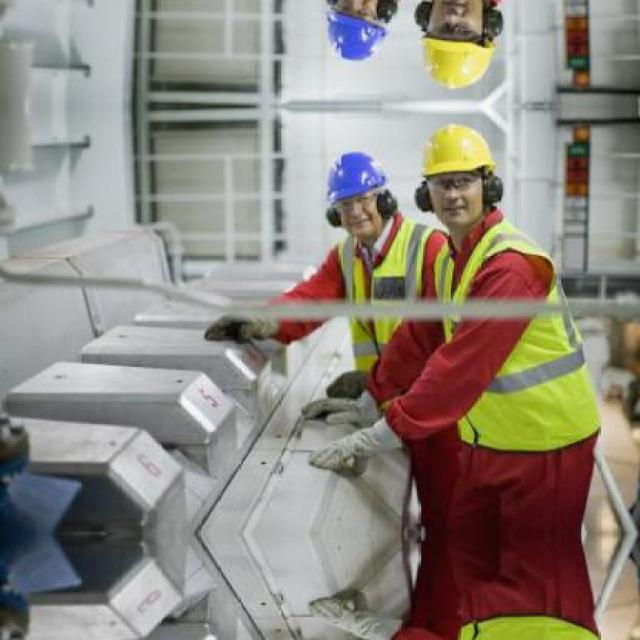helmet: (408, 112, 506, 232), (408, 0, 508, 102), (315, 142, 396, 248), (314, 0, 397, 71)
